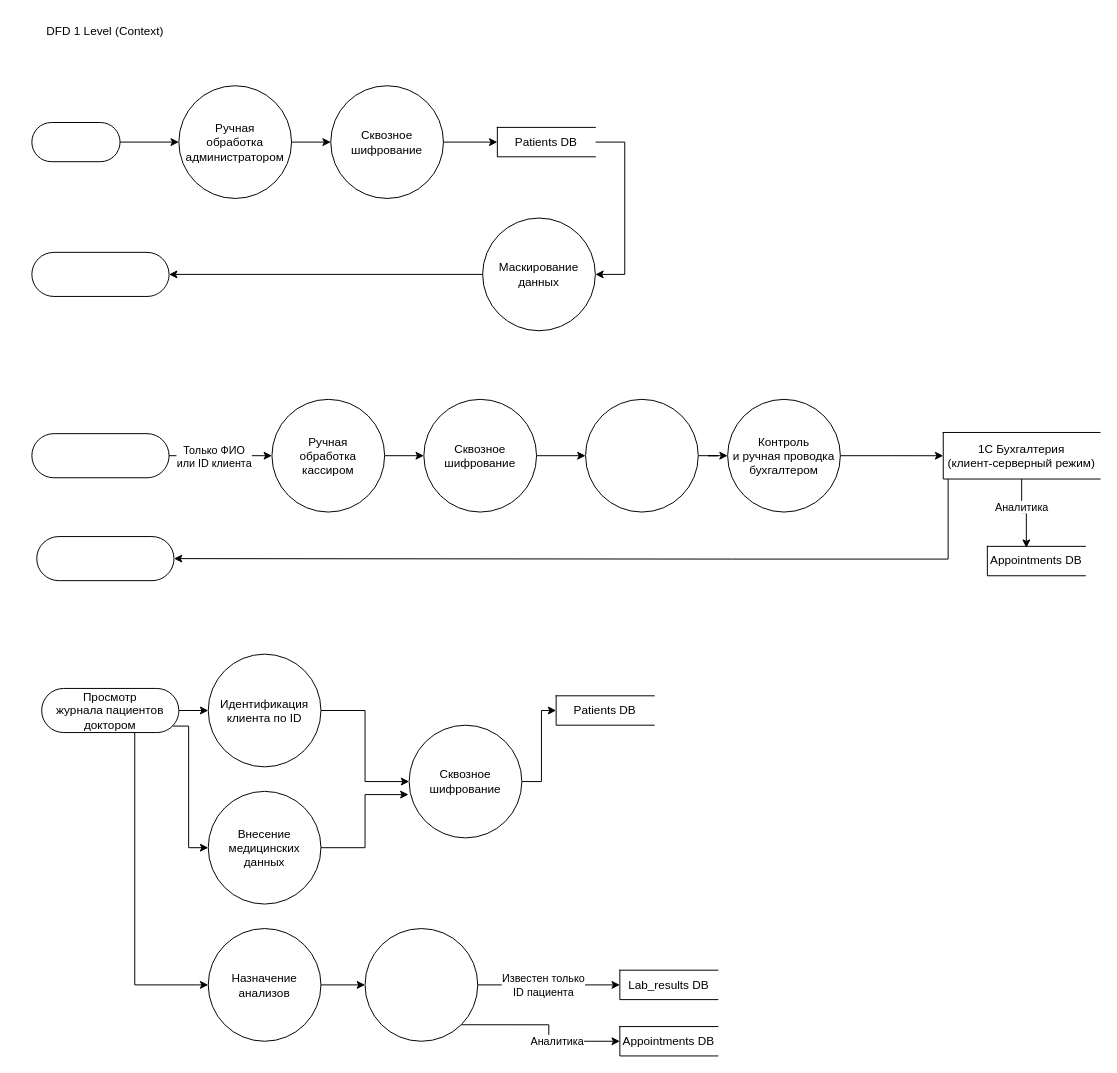
Image size: 1117x1073. Some labels were removed from this diagram. Each missing label, with the centre of its shape:
"Генерация QR-кода с метаданными для лаборатории" belongs at (x=421, y=984).
"Документ подтверждающий регистрацию" belongs at (x=100, y=273).
"Обработка контрольно кассовой машиной" belongs at (x=641, y=455).
"Оплата за медицинские услуги" belongs at (x=100, y=455).
"Платежный документ" belongs at (x=105, y=558).
"Форма Пациента" belongs at (x=75, y=142).
